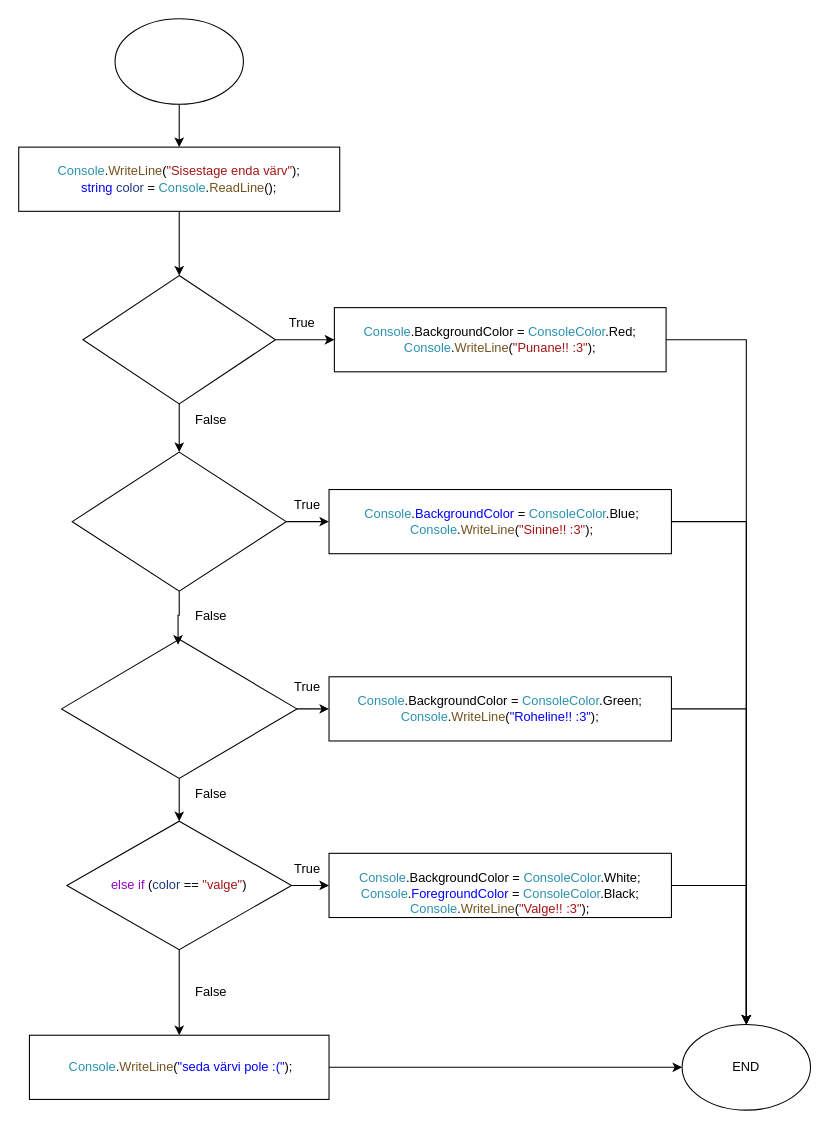
The diagram is 829 pixels wide and 1129 high, and some of its shapes have lost their labels. The shapes that lost their labels are listed below. From the top down, each one's box as (x1, y1, x2, y2) in pixels, then its label:
(114, 18, 243, 104): START
(82, 274, 276, 404): if ( color == "punane" )
(71, 451, 286, 591): else if ( color == "sinine" )
(60, 638, 297, 778): else if ( color == "roheline" )
